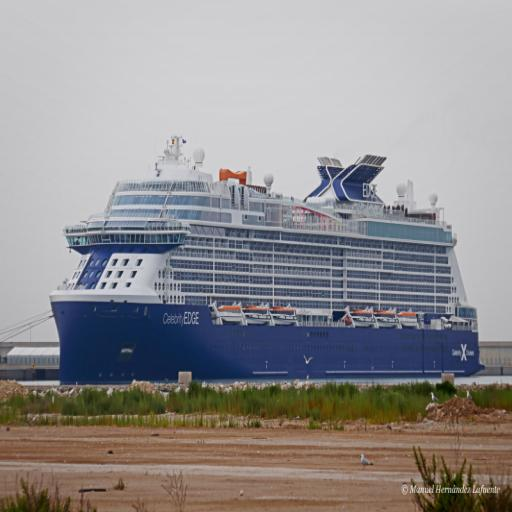cruises: (50, 130, 486, 381)
